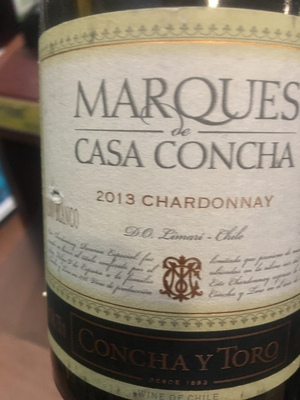marques de casa concha chardonnay: (39, 4, 297, 400)
